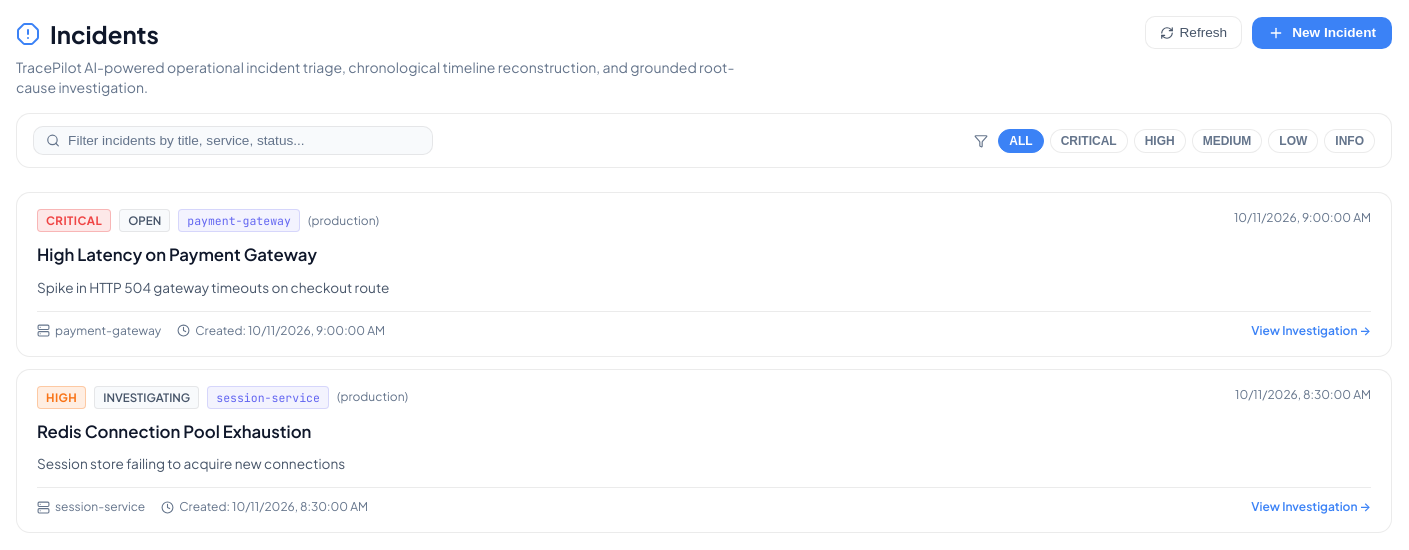
TracePilot Stage A: Product Identity & Incident Architecture › Incident Dashboard & Landing Experience › filters incidents by search input and severity filter chips
The width and height of the screenshot is (1409, 550).
Check: the heading "High Latency on Payment Gateway" is shown, box [37,244,317,266]
Note: Filter by search query
In the 2nd field with test id "incident-search-input": (244, 141) [68,133,420,148], type "Redis"
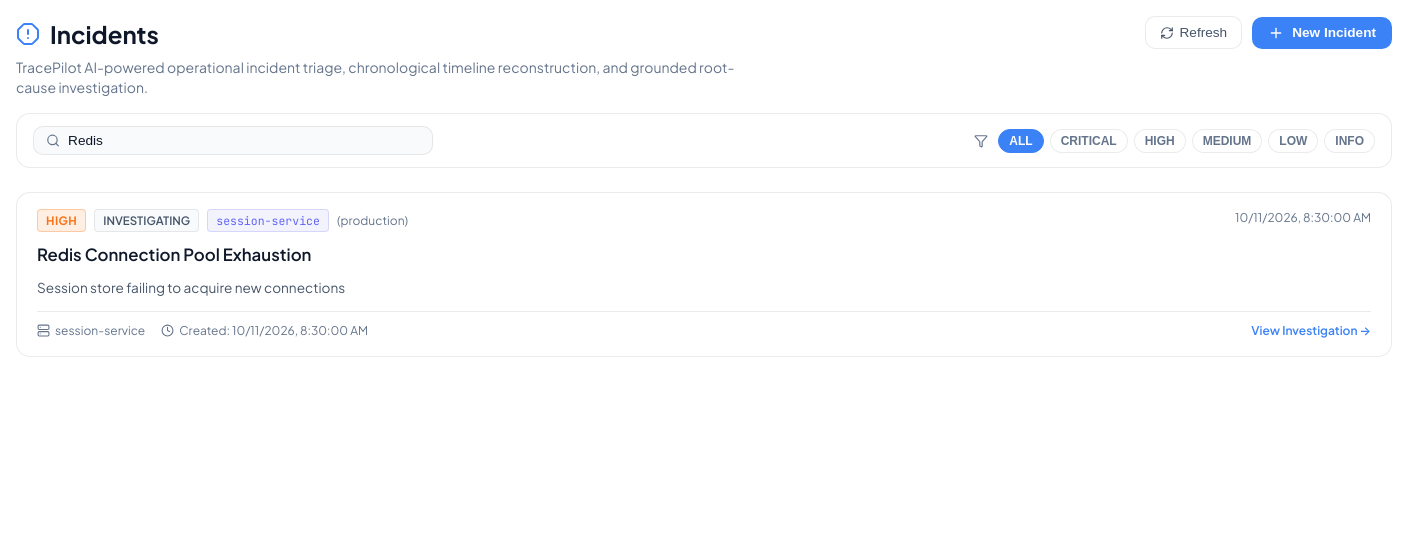
Check: the heading "Redis Connection Pool Exhaustion" is shown, box [37,244,311,266]
Check: the heading "High Latency on Payment Gateway" is gone
Note: Clear search and filter by severity chip
Clear the 2nd field with test id "incident-search-input": (244, 141) [68,133,420,148]
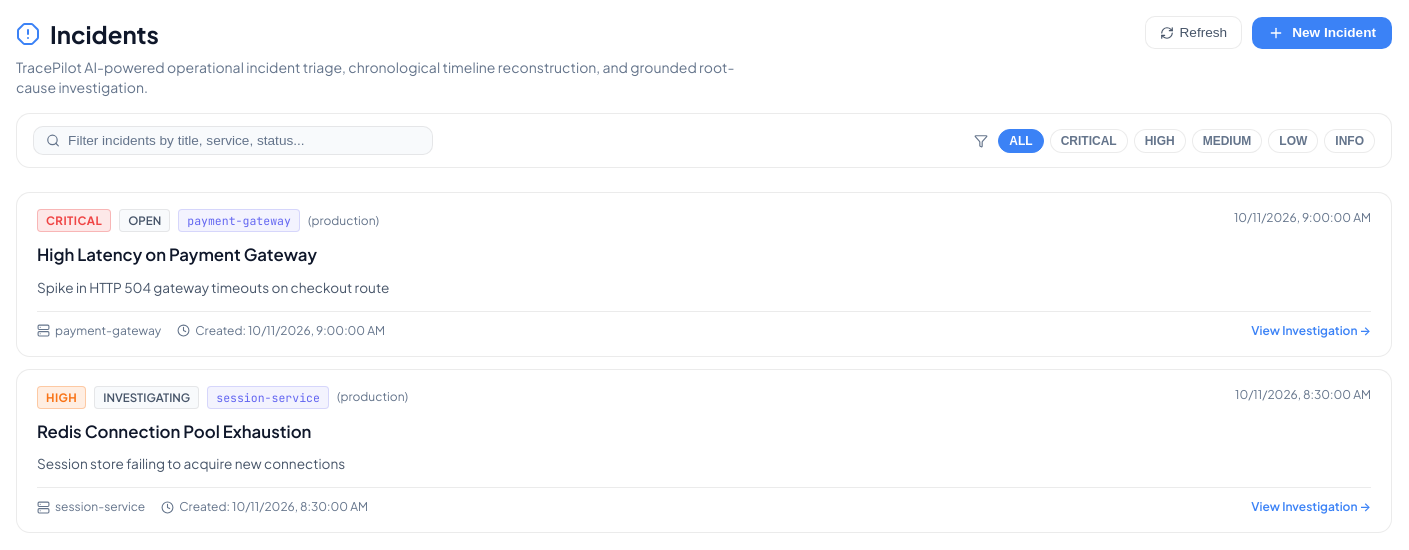
Click the button with test id "filter-critical": (1089, 141) [1050,129,1128,153]
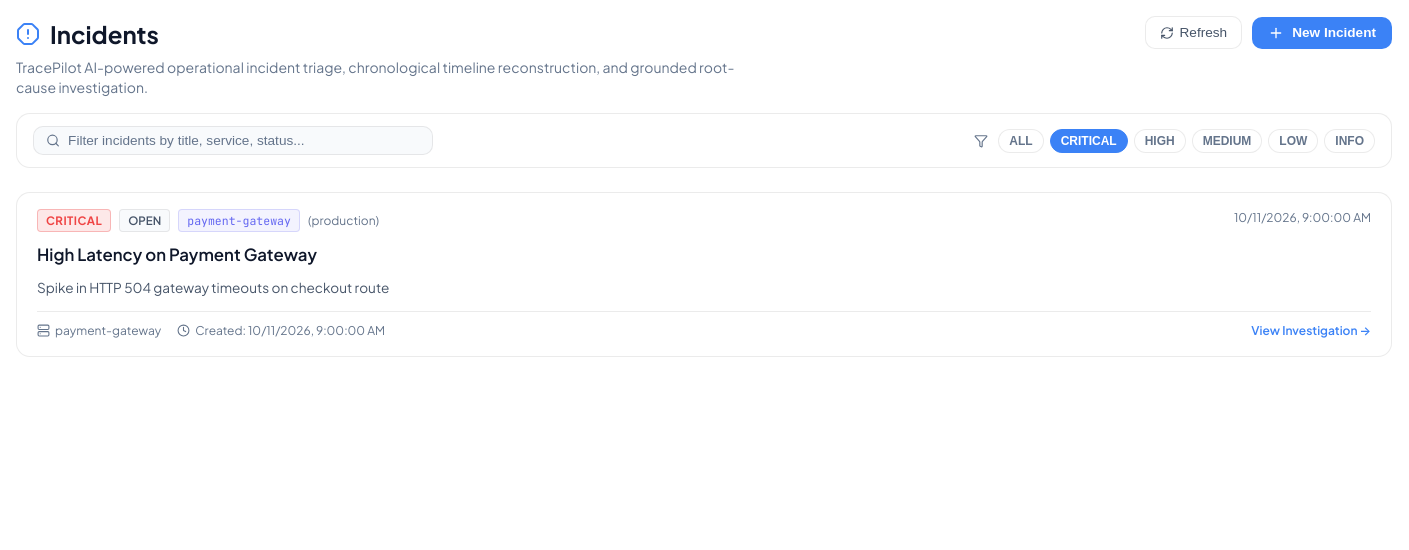
Check: the heading "High Latency on Payment Gateway" is shown, box [37,244,317,266]
Check: the heading "Redis Connection Pool Exhaustion" is gone
